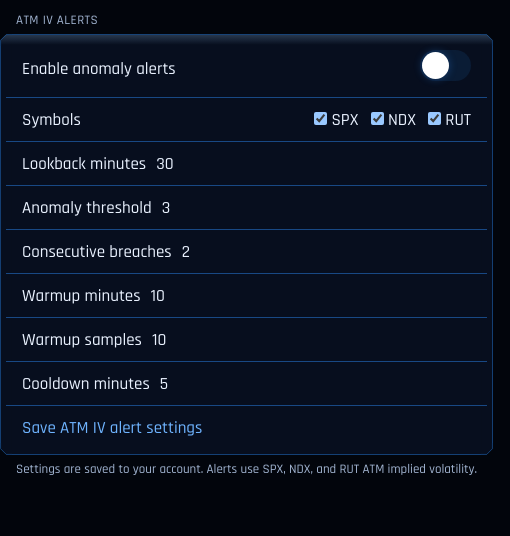
it: IvAlertSettings › does not treat an unrelated websocket error as an IV settings rejection
Click the submit button at (112, 428), box [6, 405, 487, 449]
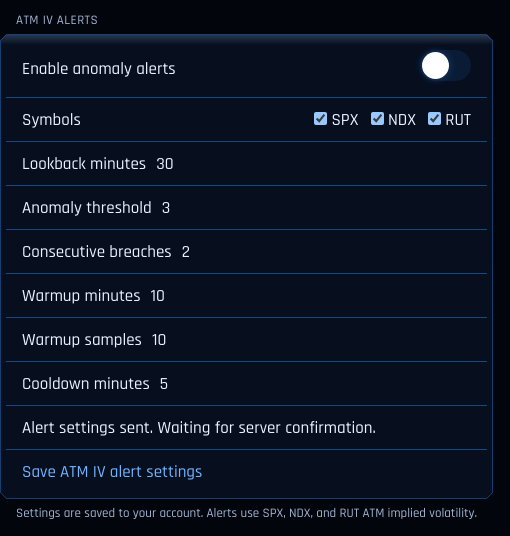
Expected: the text "Waiting for server confirmation" is shown, [22, 416, 376, 438]
